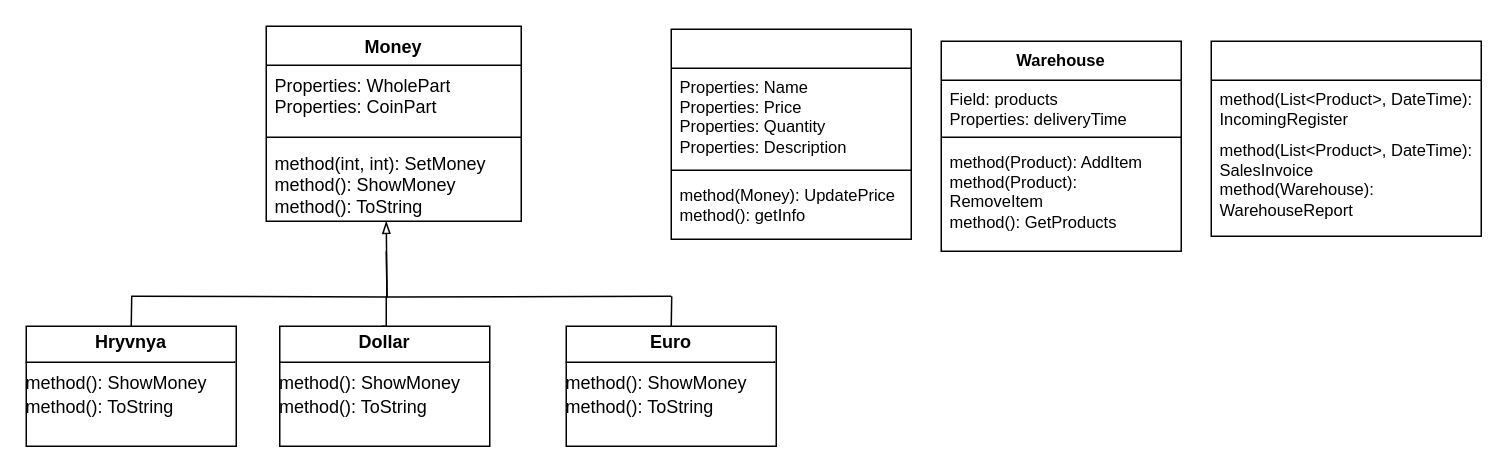
The diagram is 1508 pixels wide and 473 high, and some of its shapes have lost their labels. The shapes that lost their labels are listed below. From the top down, each one's box as (x1, y1, x2, y2) in pixels, then its label:
(670, 28, 911, 239): Product
(1210, 40, 1481, 236): Reporting
